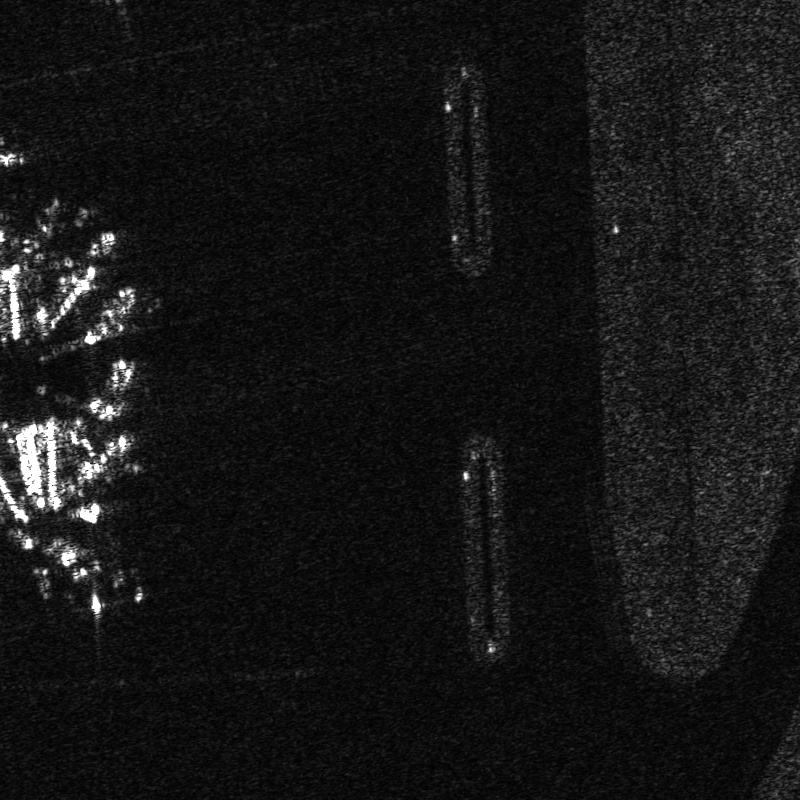Boeing737: (23, 529, 137, 629)
